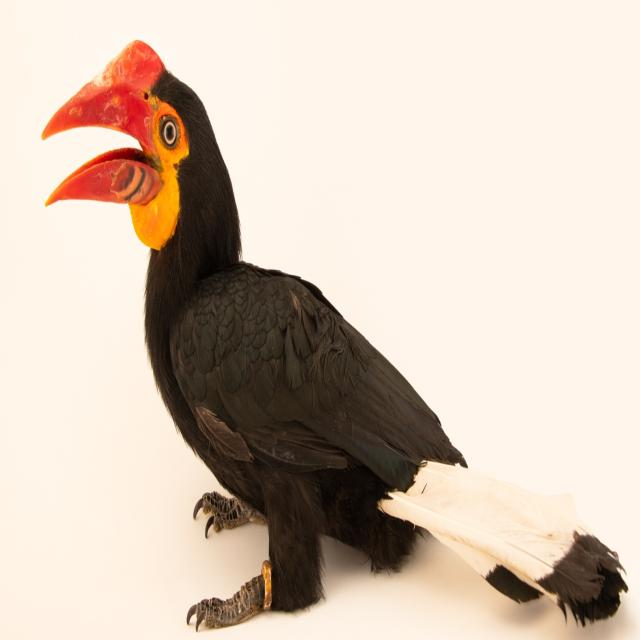Hornbill: (39, 30, 628, 632)
